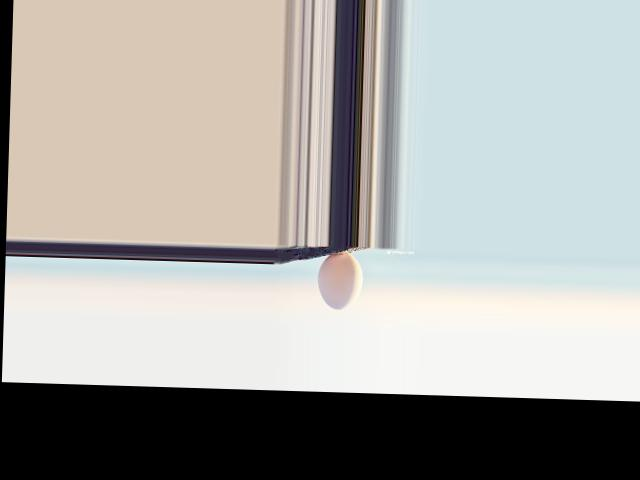egg: (316, 252, 364, 310)
